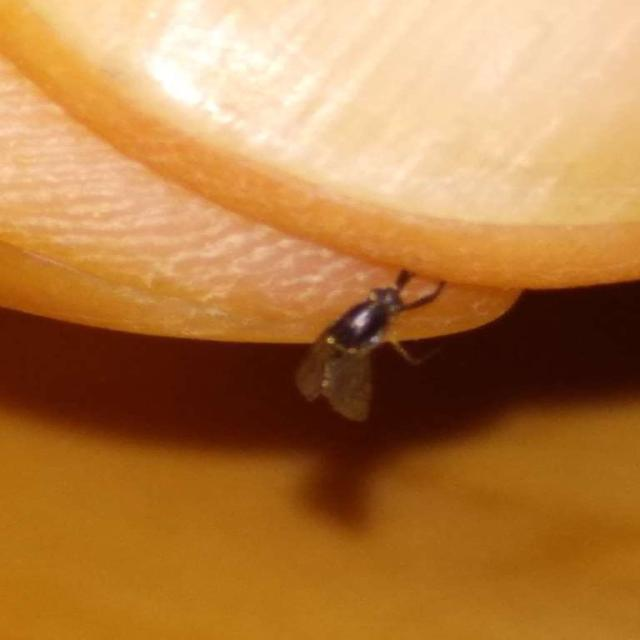albopictus: (292, 258, 470, 394)
